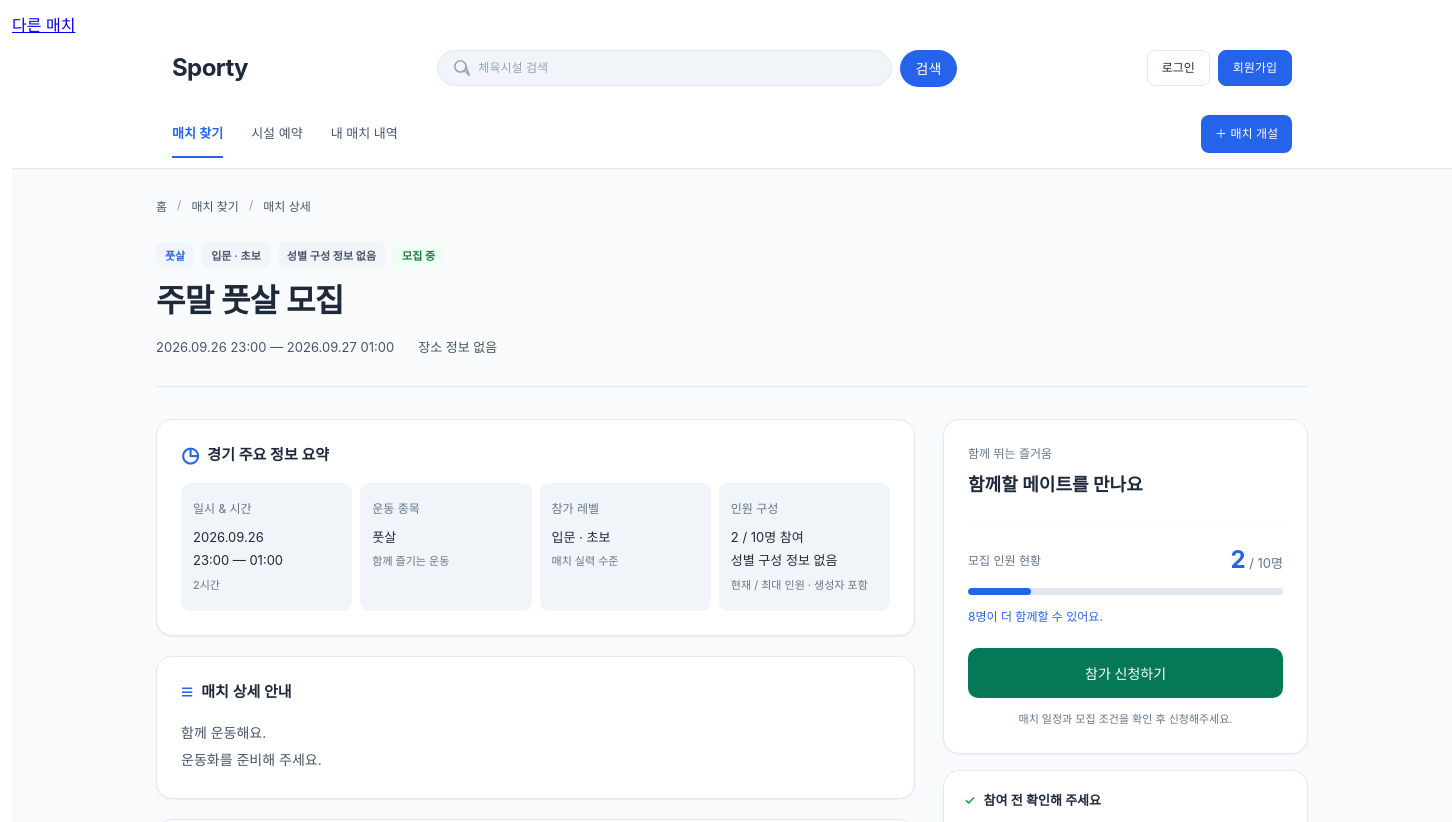
Test: redirects anonymous join attempts to login without posting
Click the button "참가 신청하기" at x=1126, y=673, box [968, 648, 1283, 698]
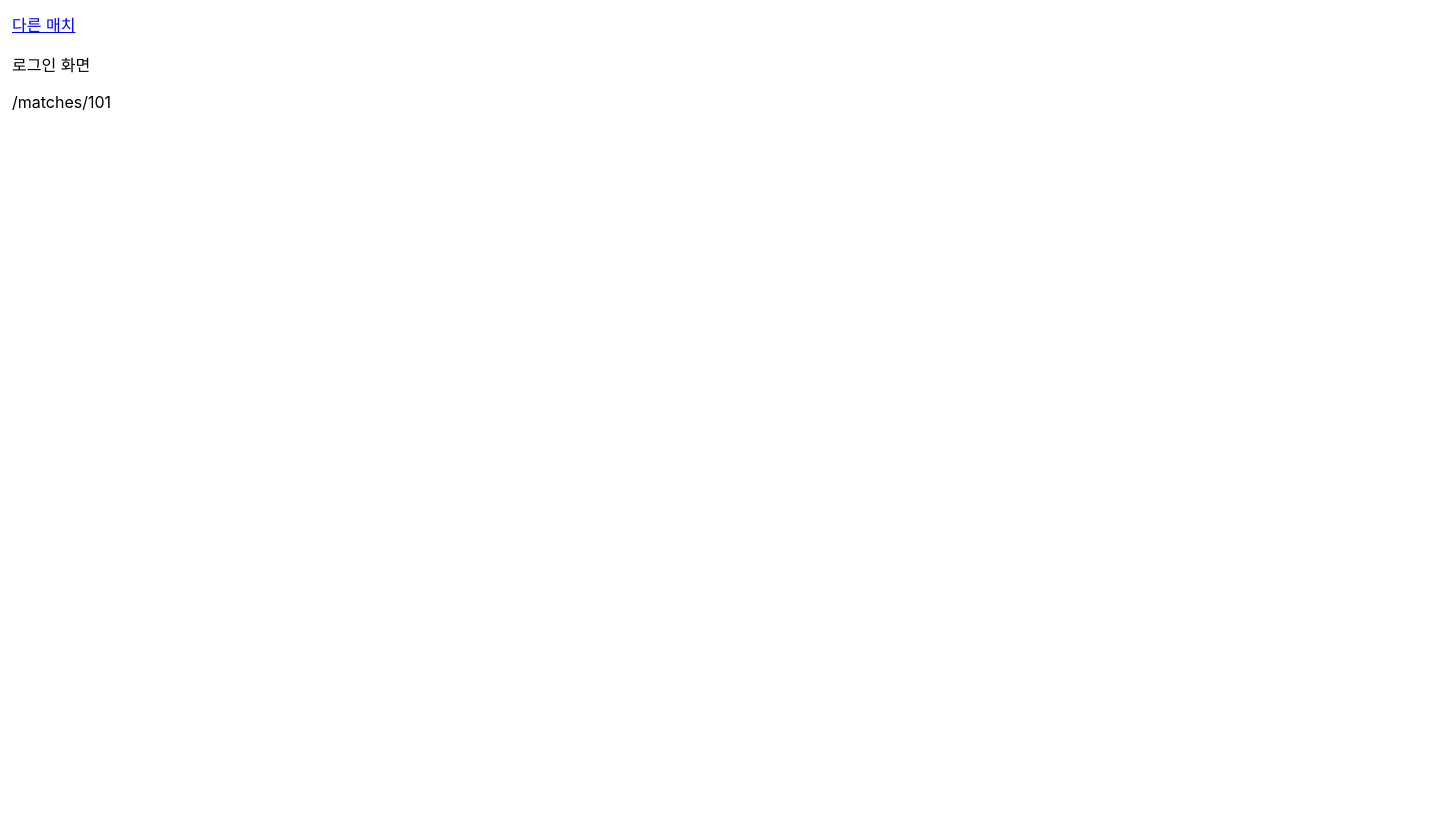
Now the text "로그인 화면" is shown, box [12, 55, 90, 75]
